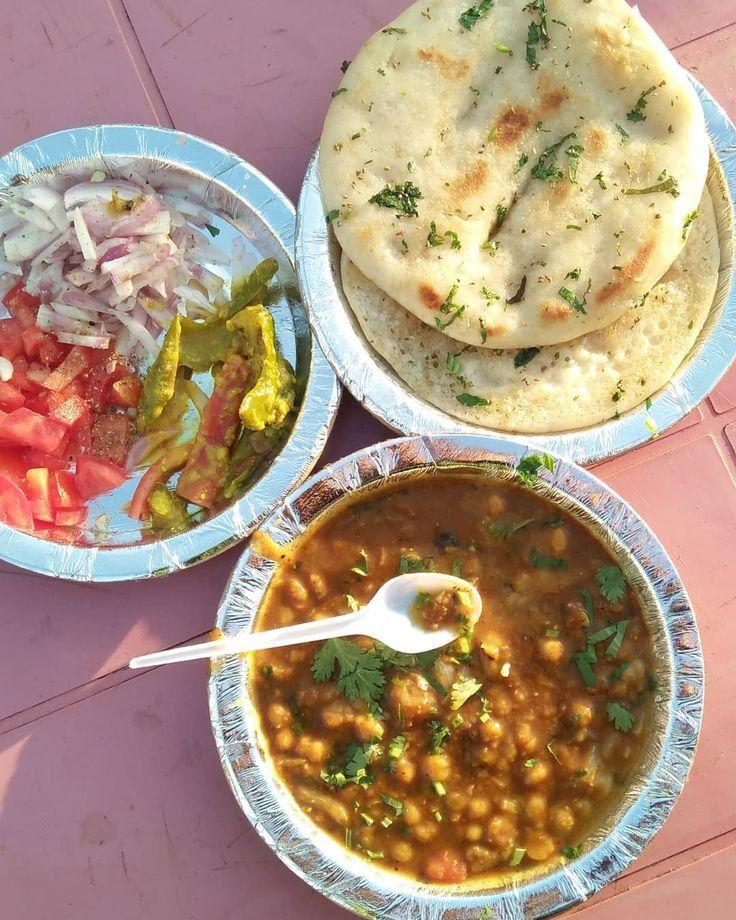chole: (264, 499, 623, 846)
salad: (10, 187, 302, 550)
